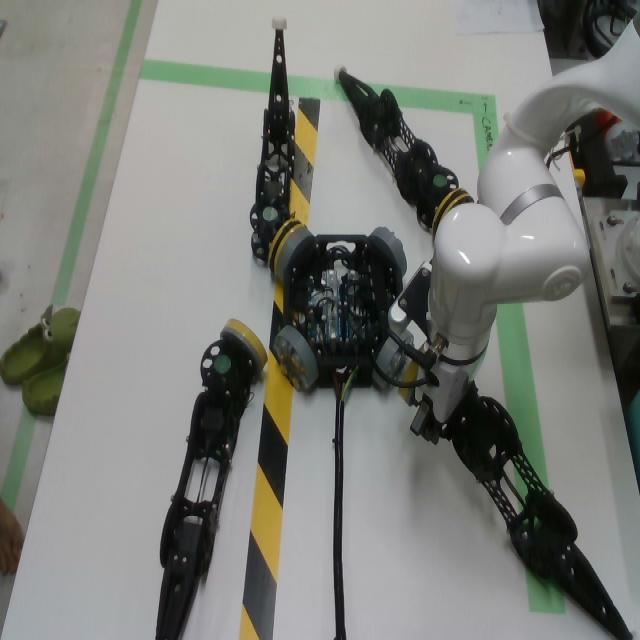body: (283, 235, 403, 388)
body_connector: (272, 325, 318, 392), (372, 337, 408, 391), (276, 227, 313, 279), (369, 227, 408, 276), (400, 331, 415, 347)
gripper: (410, 347, 487, 445)
leg: (442, 389, 640, 640), (154, 319, 268, 640), (333, 63, 475, 229), (250, 15, 306, 275), (401, 360, 419, 383), (398, 388, 415, 407), (419, 344, 424, 352)
leg_connector: (220, 319, 268, 371), (431, 188, 474, 237), (268, 219, 305, 275), (398, 387, 419, 407), (402, 361, 420, 384), (419, 343, 426, 353)
leg_marker: (215, 355, 231, 371), (263, 207, 278, 220), (433, 175, 446, 185)
